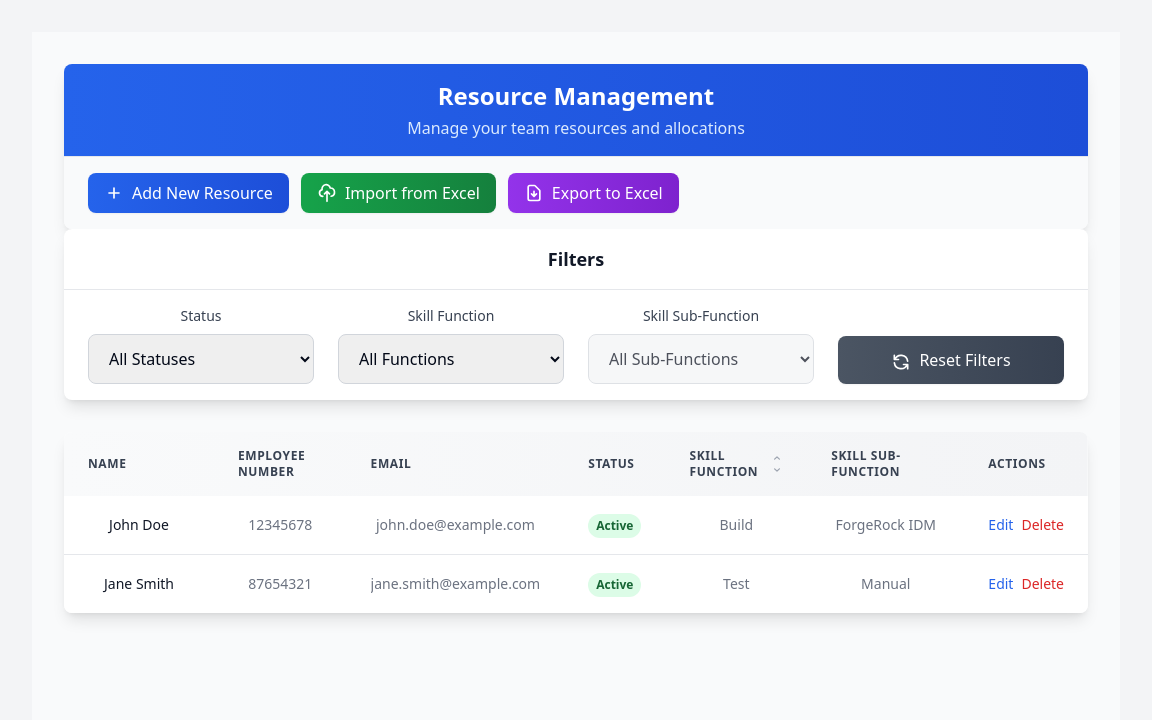
ResourceListPage › Resource Deletion › should cancel deletion
This screenshot has width=1152, height=720.
# Click delete button (first one from table view)
Click the button "Delete" in the row of "John Doe" at (1043, 525), box [1021, 515, 1064, 535]
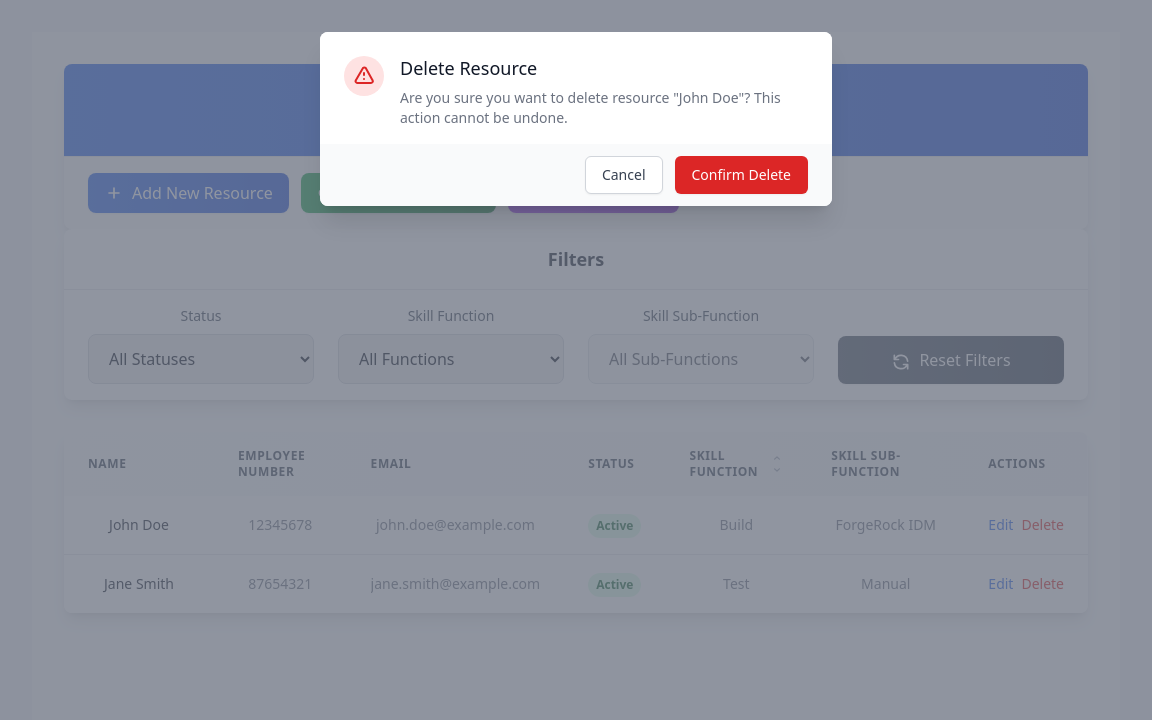
# Cancel deletion
Click the button "Cancel" at (624, 175), box [585, 156, 662, 194]
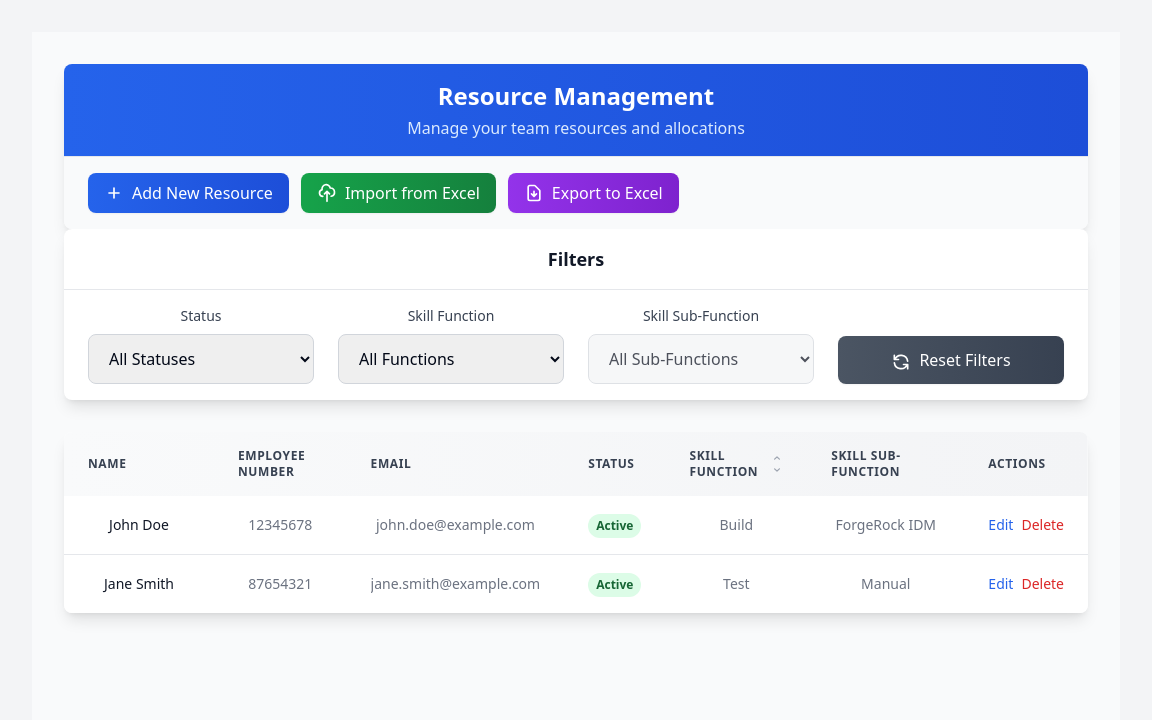
Check: the text "Are you sure you want to delete" is gone
